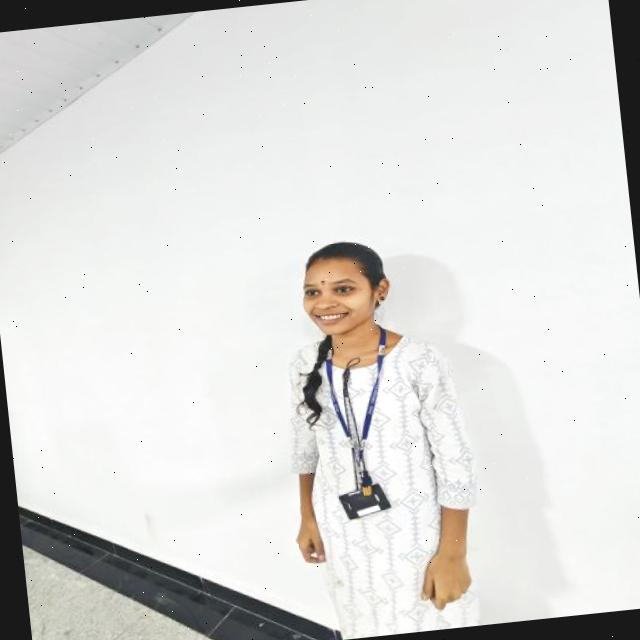Card: (339, 484, 390, 520)
Id strap: (356, 327, 386, 463)
